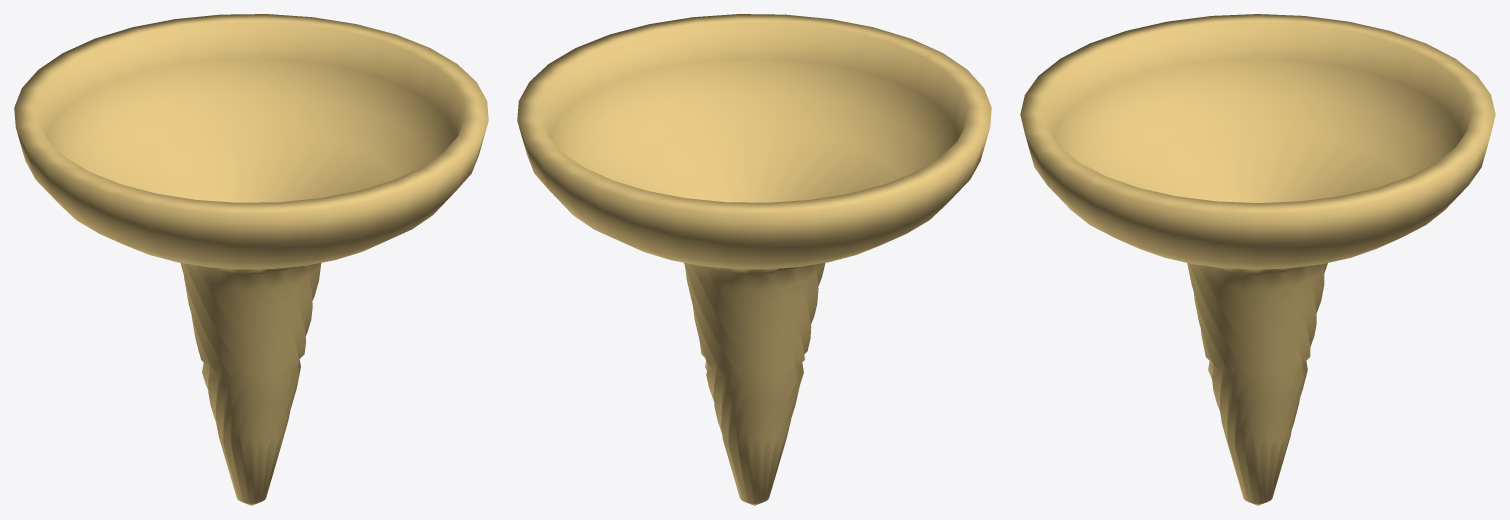
Rendered from cone_xxl.glb.
3 renders of one model, left to right at view 1: azimuth 30°, elevation 25°; view 2: azimuth 150°, elevation 25°; view 3: azimuth 270°, elevation 25°, orthographic.
Visible parts, largest first — view 1: Cone XXL; view 2: Cone XXL; view 3: Cone XXL.
Part boxes in pixels (x1,y1,x2,y2): Cone XXL: (14,14,488,505); Cone XXL: (517,14,991,505); Cone XXL: (1020,14,1495,505).
Bounding box in the file's own units: 4.38 × 4 × 4.38.
